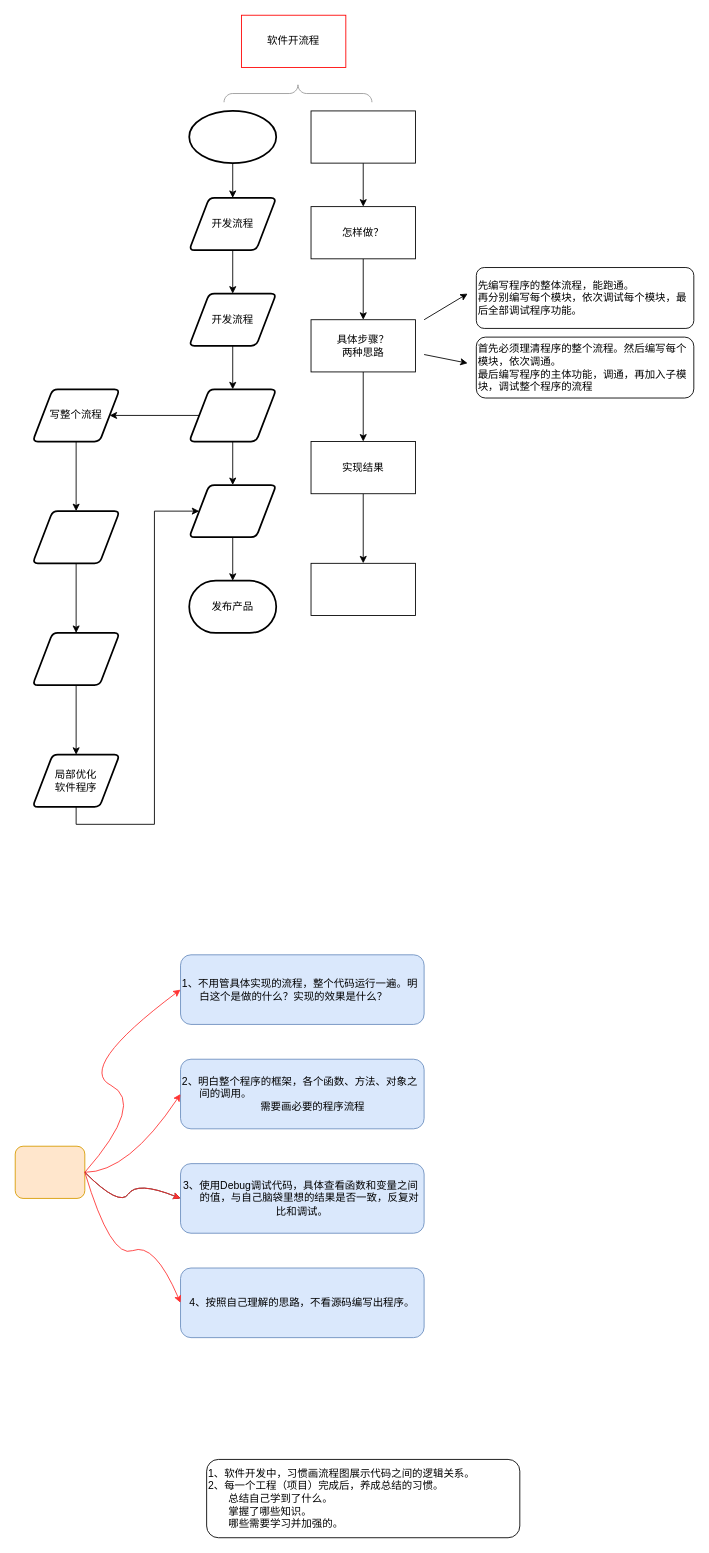
Some shapes in this 709 by 1553 pixel diagram are drawn without their labels. The box of each missing label's shape, as (x1, y1, x2, y2) in pixels:
产品与预期 结果: (188, 484, 277, 538)
产品需求: (188, 110, 277, 164)
做什么？: (310, 110, 415, 163)
写局部流程: (31, 510, 120, 564)
完成整体 软件程序: (31, 632, 120, 686)
快速学习别人开发的代码: (14, 1145, 85, 1198)
总结: (310, 562, 415, 616)
程序流程: (188, 388, 277, 442)
